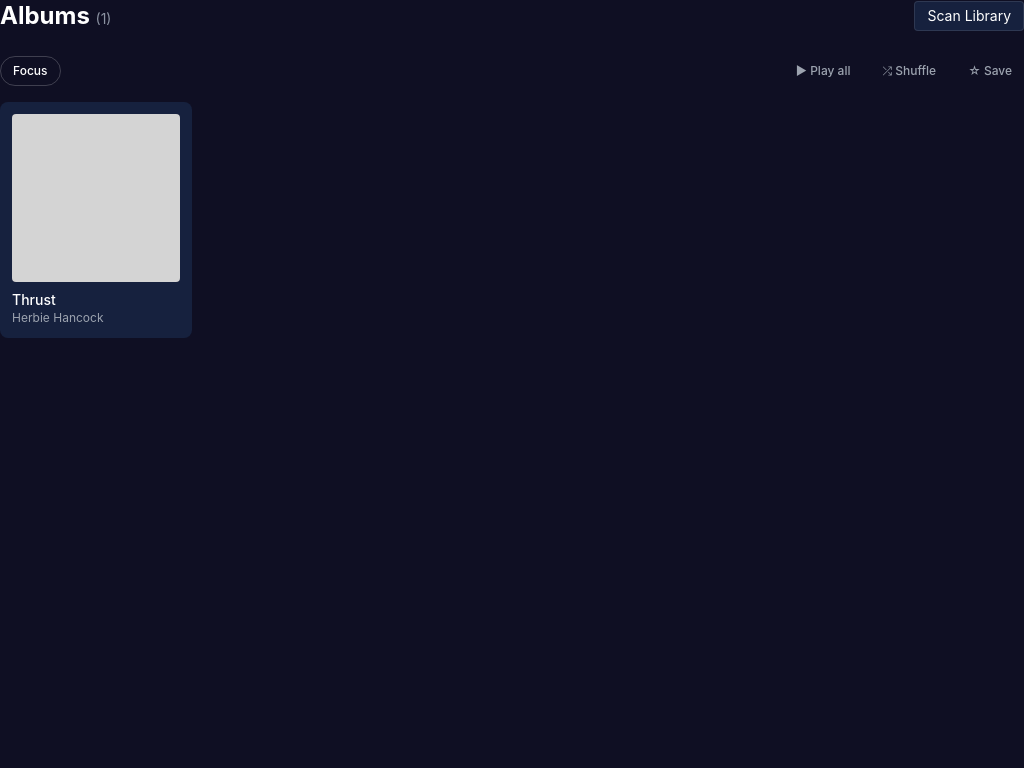
it: Focus on the albums page › builds "hi-res jazz from the seventies I never played" with counts, in the URL
The width and height of the screenshot is (1024, 768).
Click the button "Focus". click: {"x": 30, "y": 71}
box: [0,56,60,86]
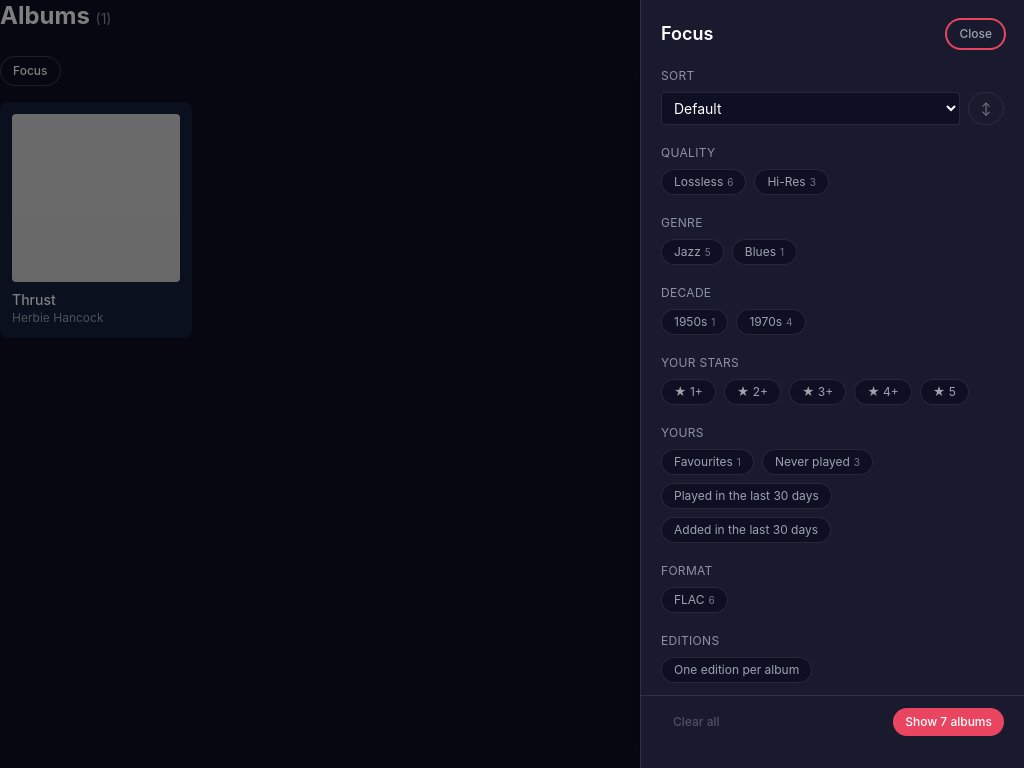
Expected: the button "Jazz 5" is shown
Click the button "Jazz 5". click: {"x": 692, "y": 252}
box: [661,239,724,265]
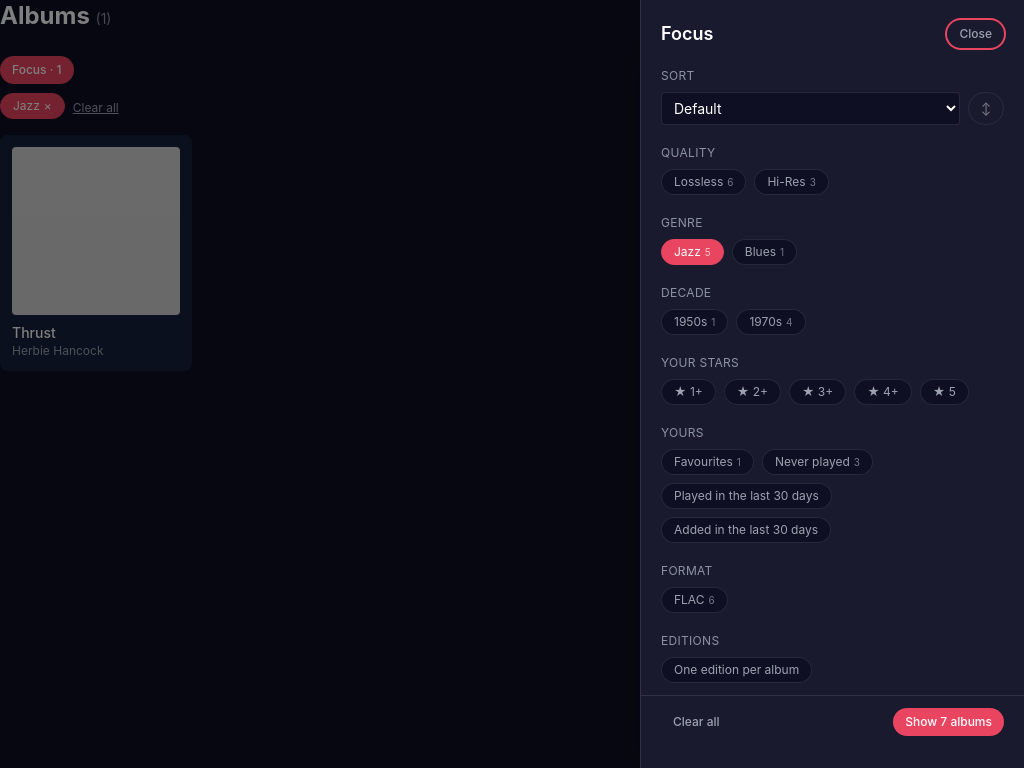
Expected: the dialog "Focus" is shown, [640,0,1023,767]
Click the button "1970s 4". click: {"x": 771, "y": 322}
box: [736,309,806,335]
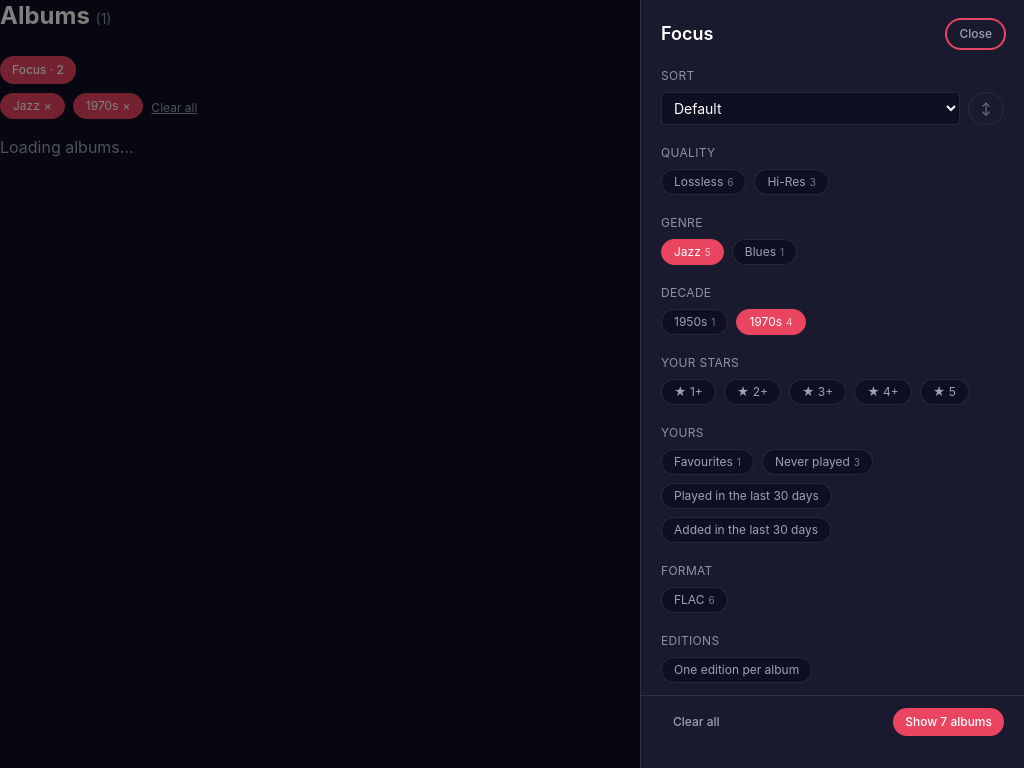
Click the button "Hi-Res 3". click: {"x": 792, "y": 182}
box: [754,169,829,195]
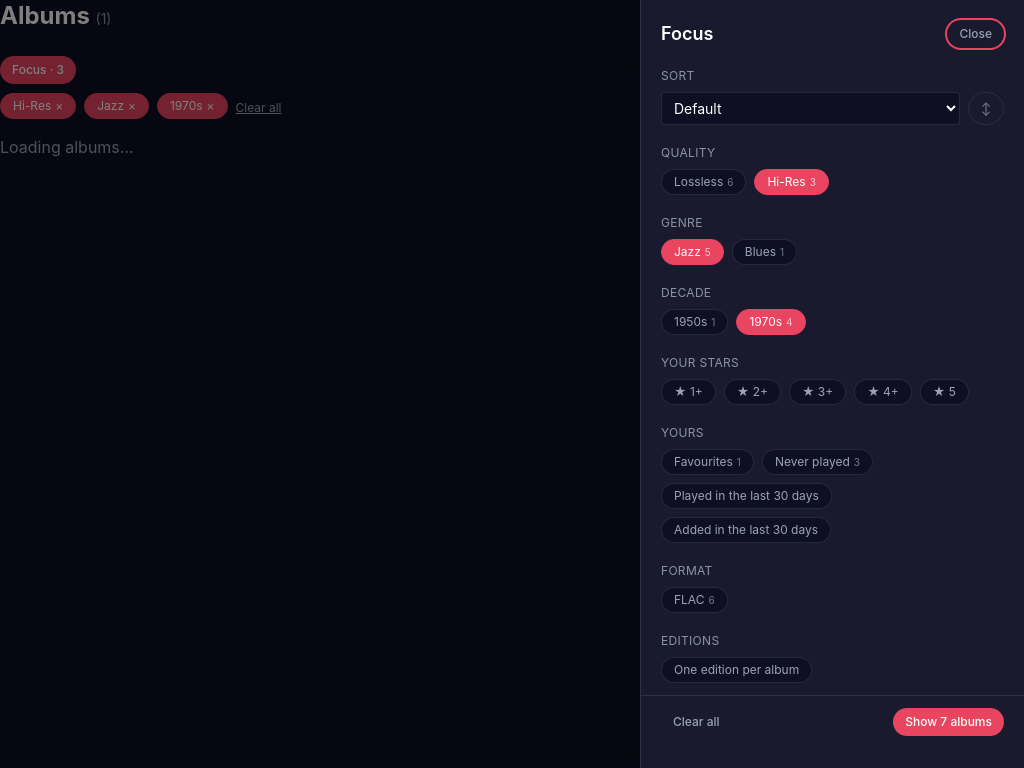
Click the button "Never played 3". click: {"x": 817, "y": 462}
box: [762,449,873,475]
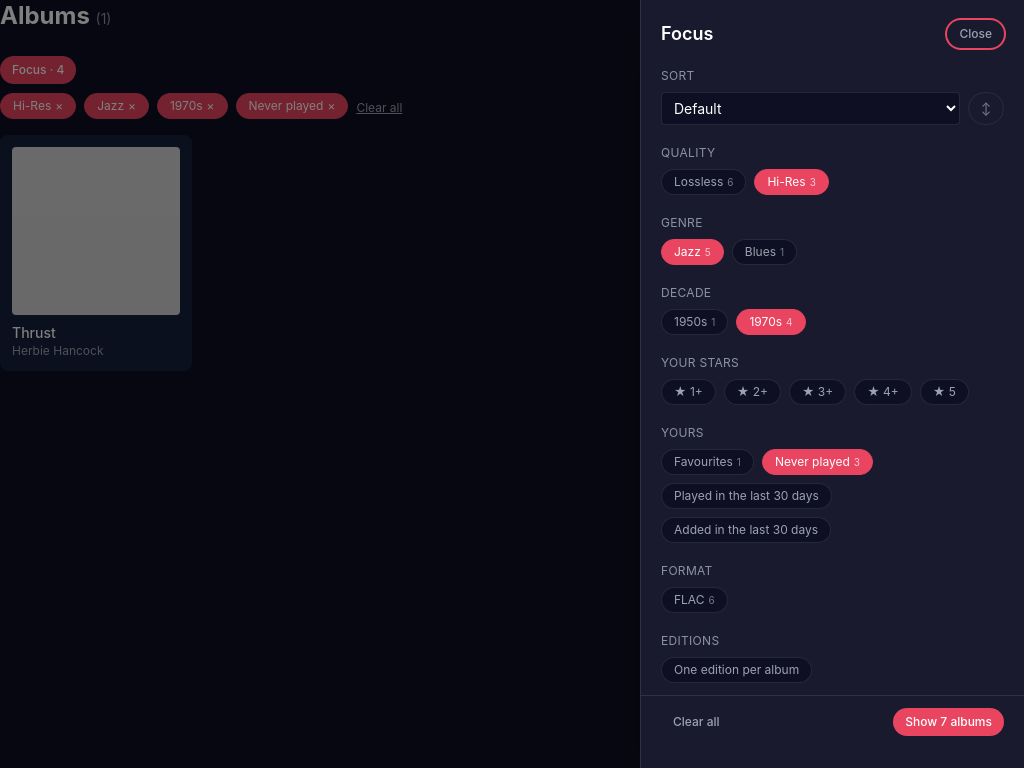
Click the button "Close". click: {"x": 976, "y": 34}
box: [947,20,1004,48]
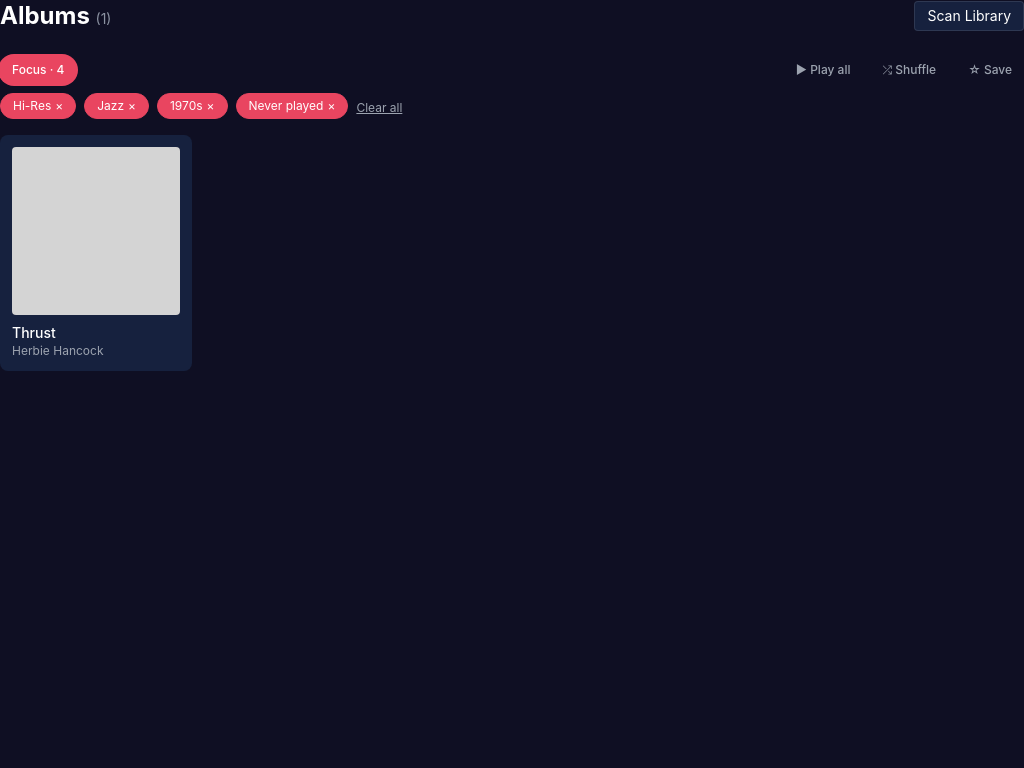
Expected: the button "Focus · 4" is shown, [0,56,76,84]
Expected: the buttons read "Hi-Res ×", "Jazz ×", "1970s ×", "Never played ×", "Clear all", in this order, [0,93,76,119]; [84,93,149,119]; [157,93,228,119]; [236,93,348,119]; [356,100,402,116]
